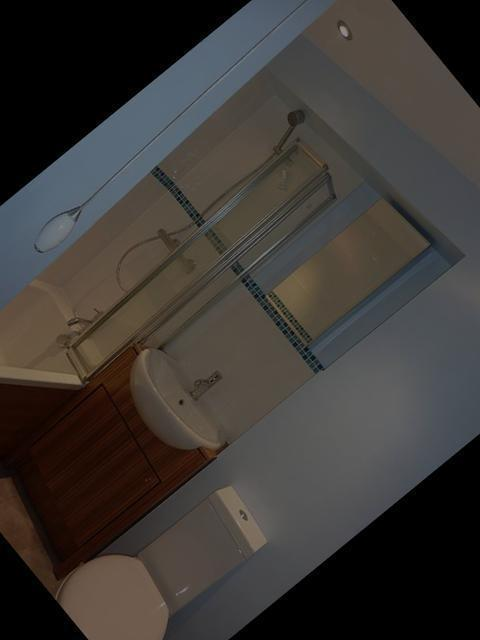Ducha: (39, 78, 354, 366)
Lavamanos: (111, 318, 265, 477)
Sanitario: (45, 443, 308, 640)
